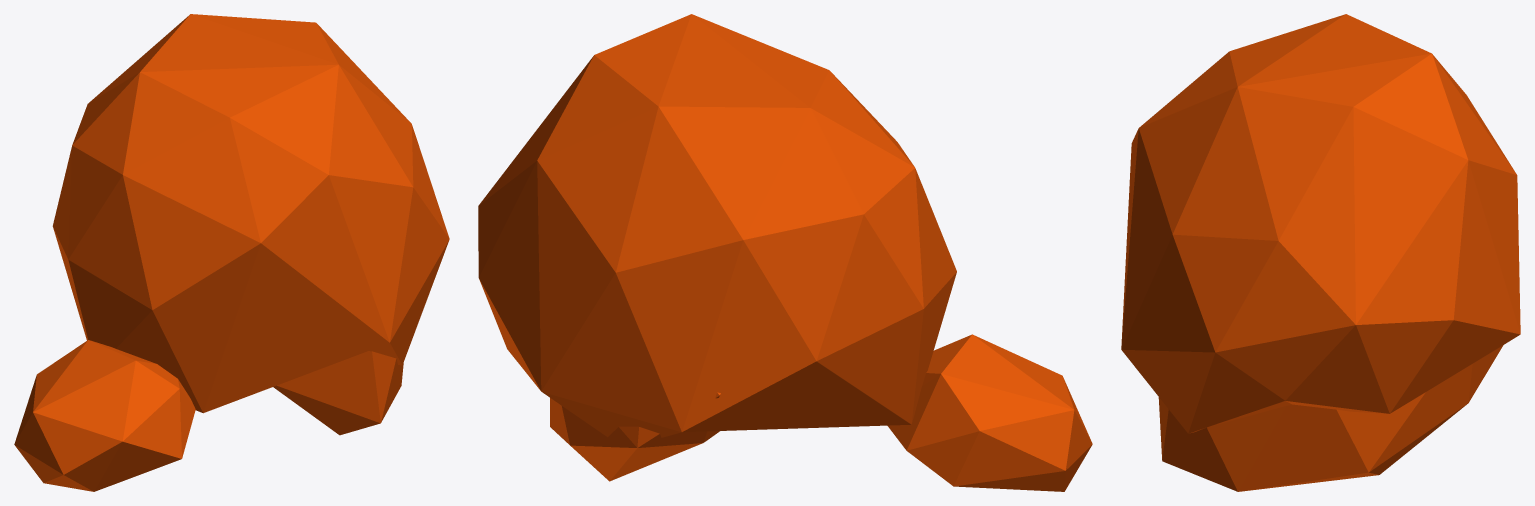
Rendered from tree-autumn-leaves-024.glb.
The picture shows the model from 3 angles, left to right: view 1: azimuth 30°, elevation 25°; view 2: azimuth 150°, elevation 25°; view 3: azimuth 270°, elevation 25°; orthographic projection. The views are drawn at different scales.
Visible parts, largest first — view 1: Icosphere.006_355; view 2: Icosphere.006_355; view 3: Icosphere.006_355.
Part boxes in pixels (x1,y1,x2,y2): Icosphere.006_355: [14, 14, 449, 491]; Icosphere.006_355: [478, 14, 1092, 491]; Icosphere.006_355: [1121, 14, 1520, 491].
Size of the model in its own units: 1.35 by 1.05 by 0.9464.
